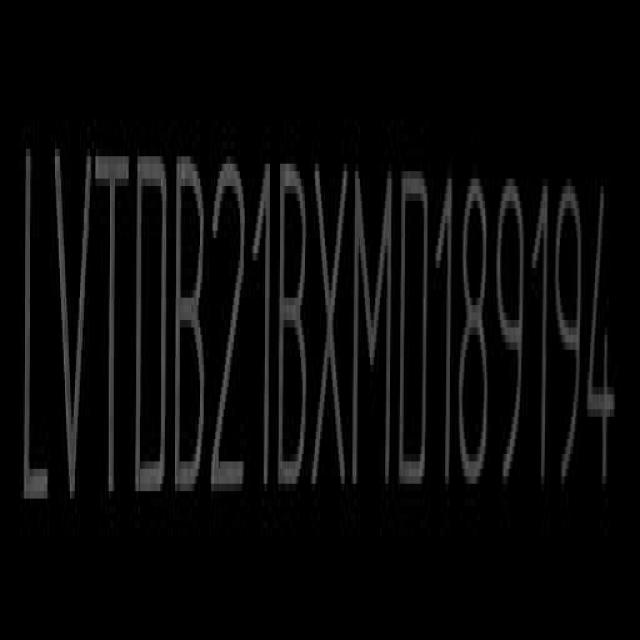1: (255, 153, 275, 504), (435, 168, 454, 492), (531, 178, 549, 497)
2: (212, 154, 248, 510)
4: (589, 183, 621, 497)
8: (460, 176, 492, 494)
9: (496, 176, 527, 494), (556, 181, 586, 496)
B: (177, 153, 211, 510), (279, 154, 311, 498)
D: (132, 146, 169, 507), (400, 167, 433, 496)
L: (16, 135, 48, 531)
M: (352, 165, 392, 493)
T: (100, 146, 128, 514)
V: (51, 141, 93, 519)
X: (313, 158, 347, 500)
